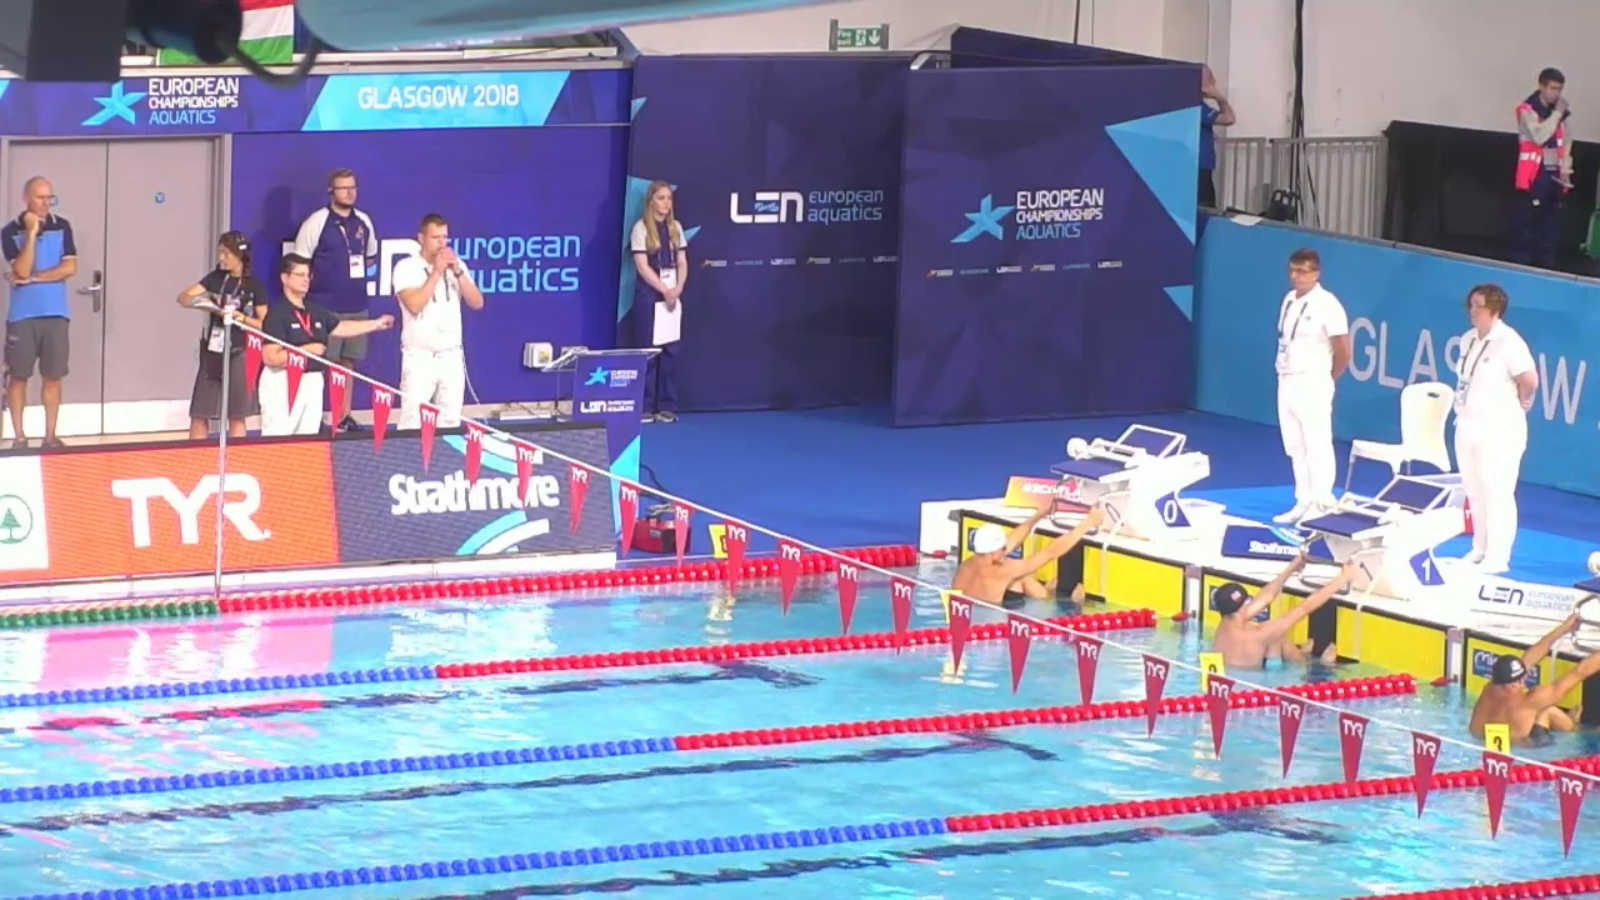swimmerw: (934, 495, 1105, 615), (1210, 557, 1367, 673), (1469, 615, 1600, 742)
